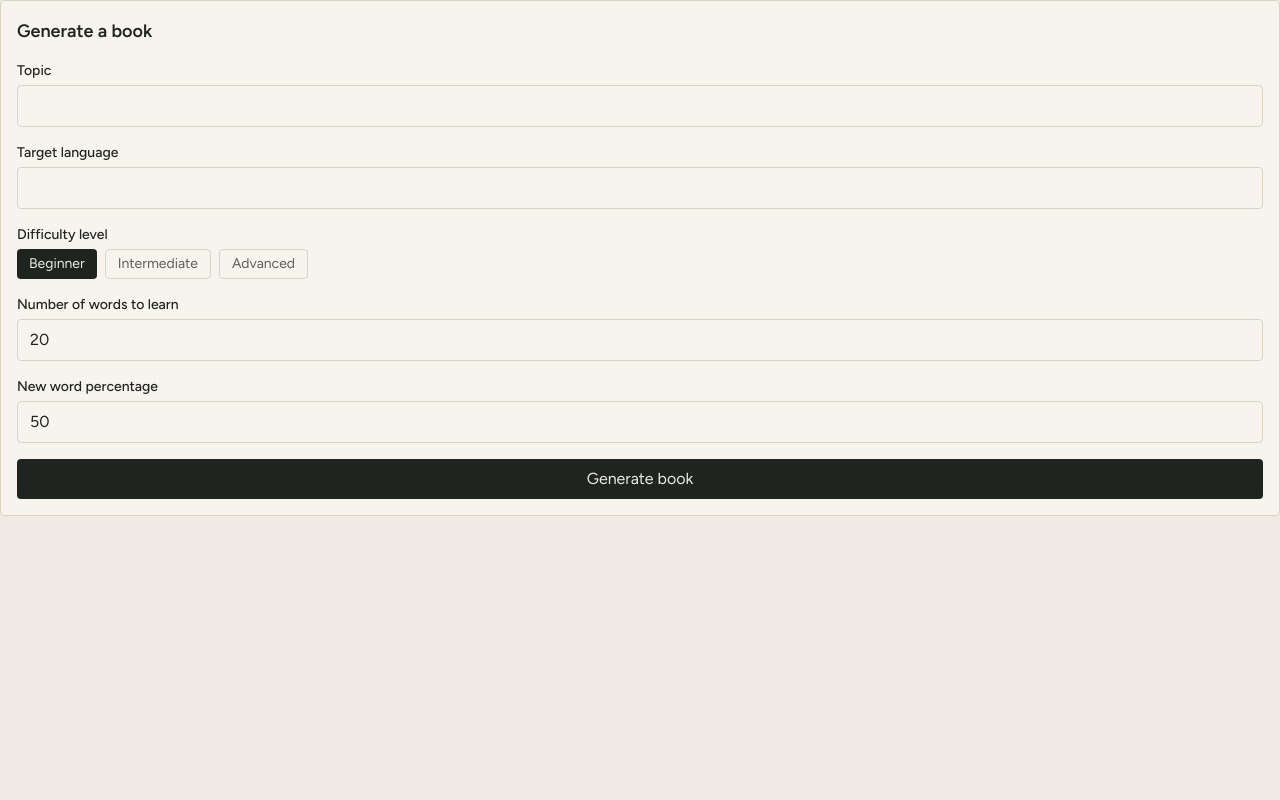
Test: GenerateBookForm › rejects a targetWordCount outside the 5-50 bound client-side, without calling fetch
Type "space adventure" into the field labelled "Topic" at coordinates (640, 106), box [17,85,1263,127]
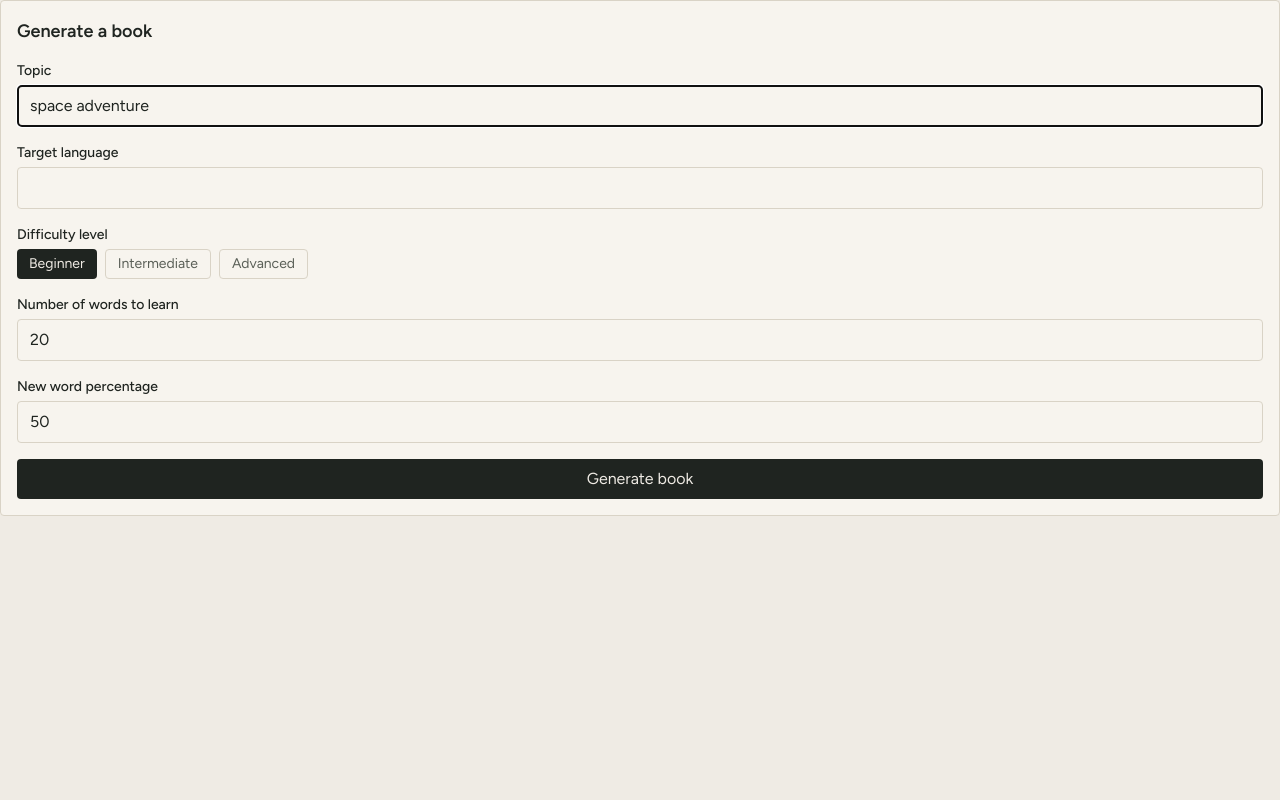
Type "french" into the field labelled "Target language" at coordinates (640, 188), box [17,167,1263,209]
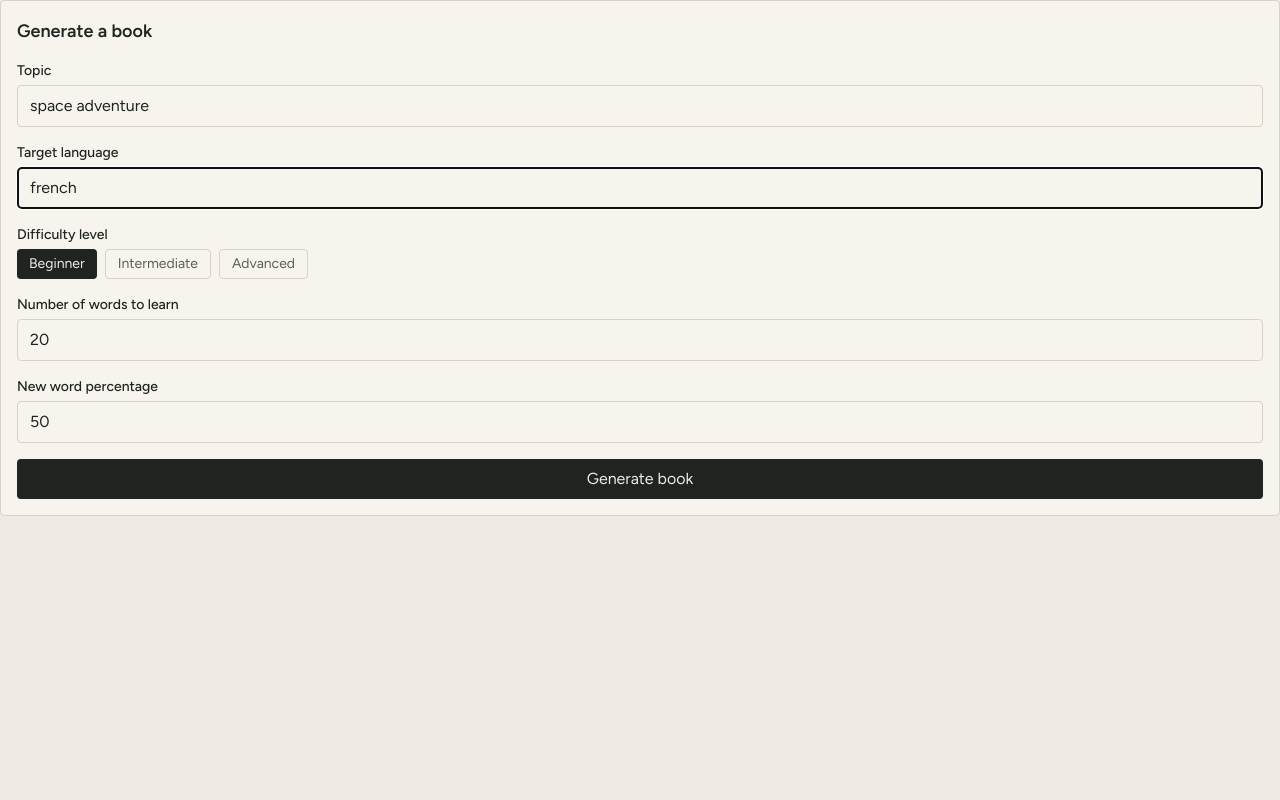
Replace the text in the number field labelled "Number of words to learn" with "100" at coordinates (640, 340), box [17,319,1263,361]
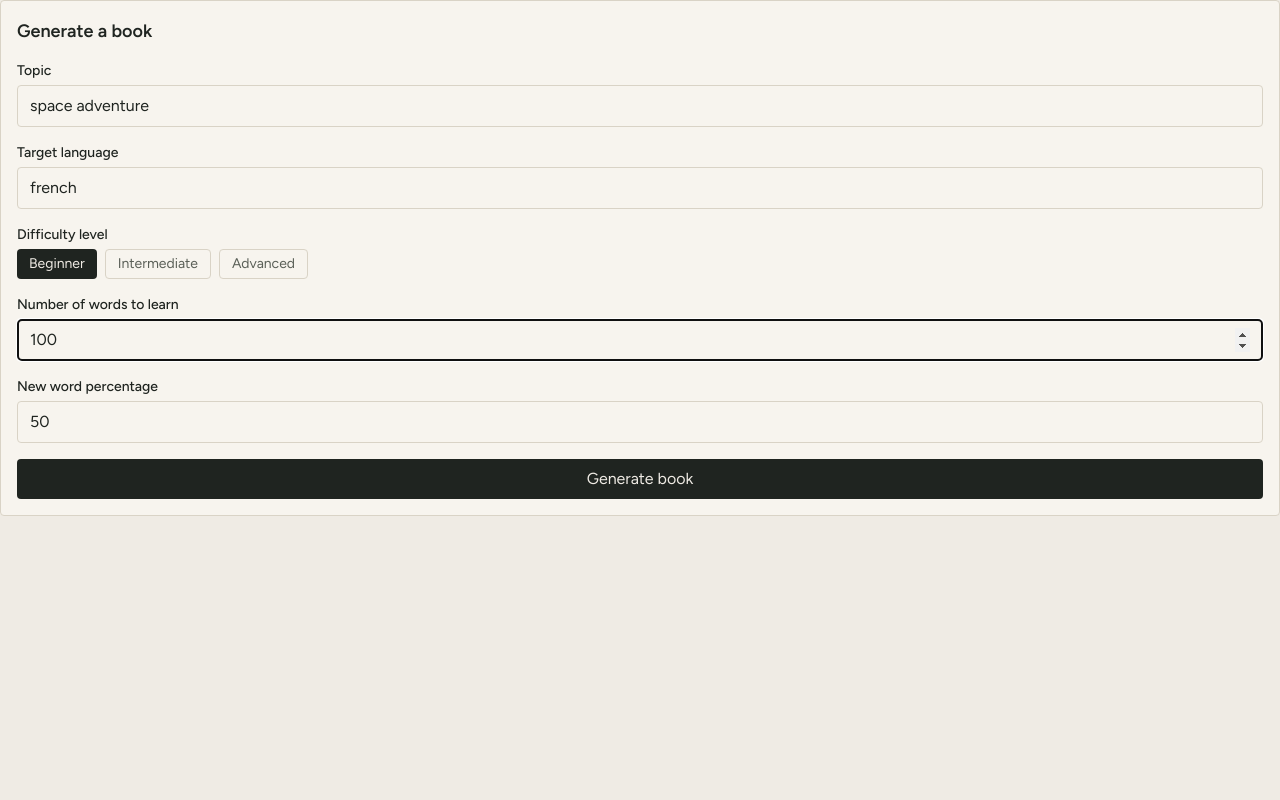
Click the button "Generate book" at coordinates (640, 479), box [17,459,1263,499]
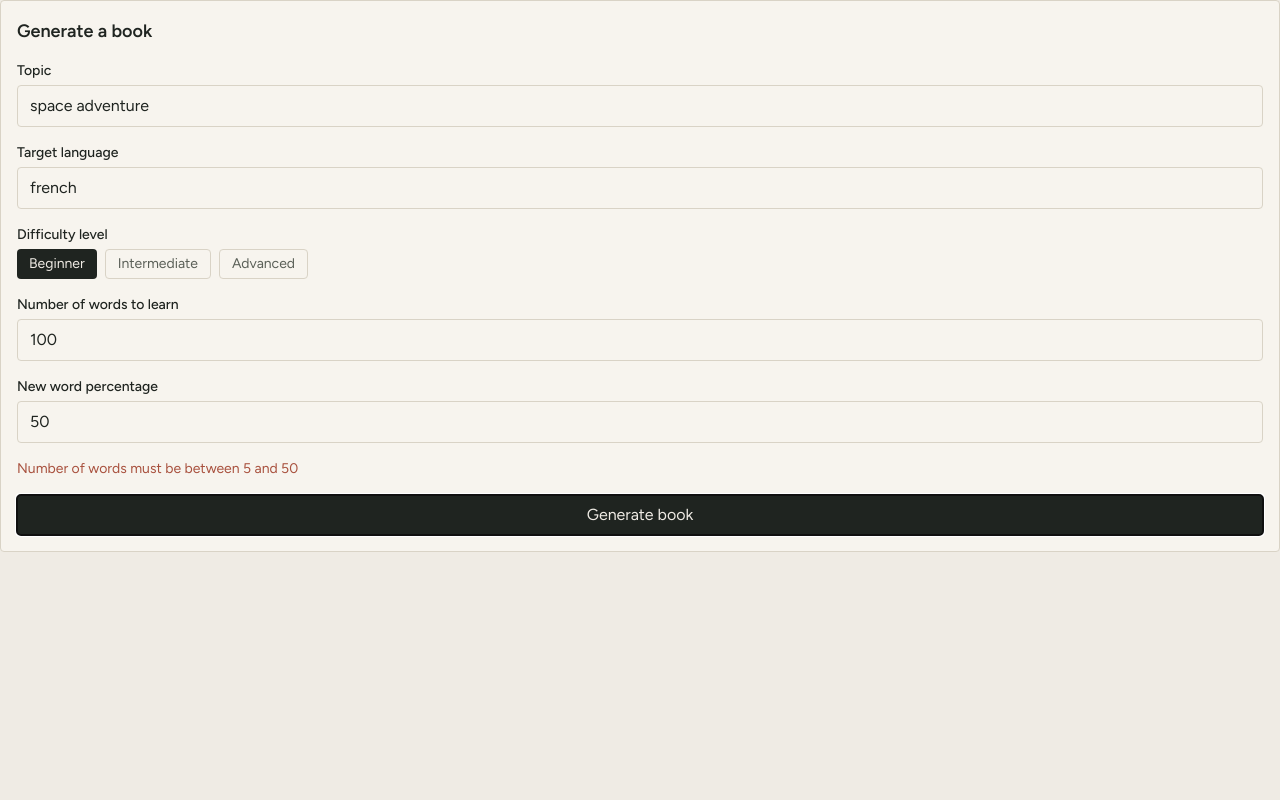
Expected: the text "Number of words must be between 5 and 50" is shown, [17,460,298,477]
